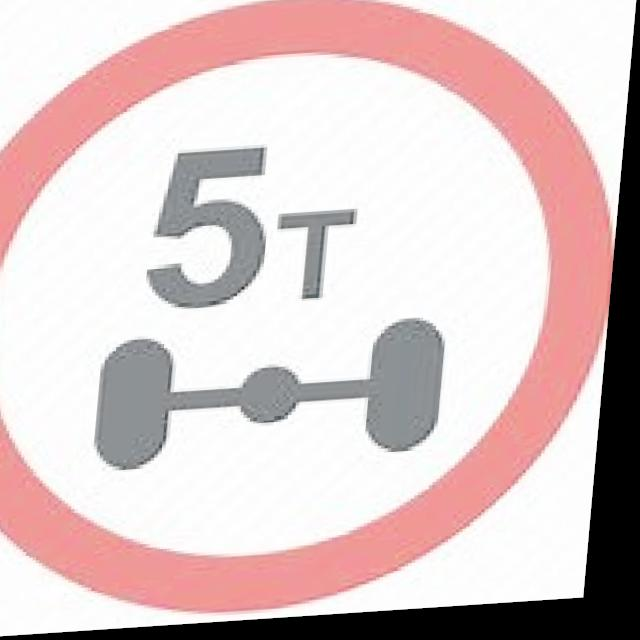AXLE_LOAD_LIMIT: (0, 0, 639, 637)
